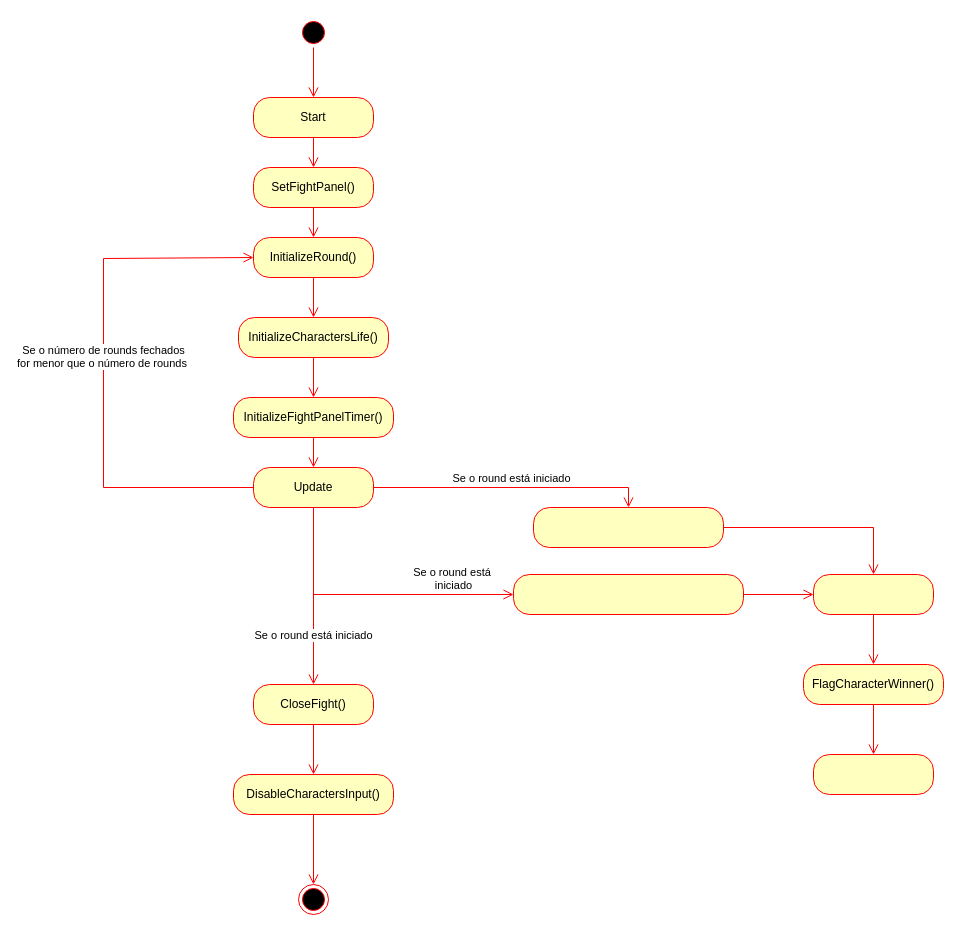
Some shapes in this 961 by 932 pixel diagram are drawn without their labels. Here are the shapes that lost their labels. From the top down, the centre of each, then its label:
At point (628, 527): "CloseRoundIfPanelTimerEqual0".
At point (628, 594): "ActivityCloseRoundIfAPlayerLifeEqual0()".
At point (873, 594): "CloseRound()".
At point (873, 774): "SetRoundClosed()".
